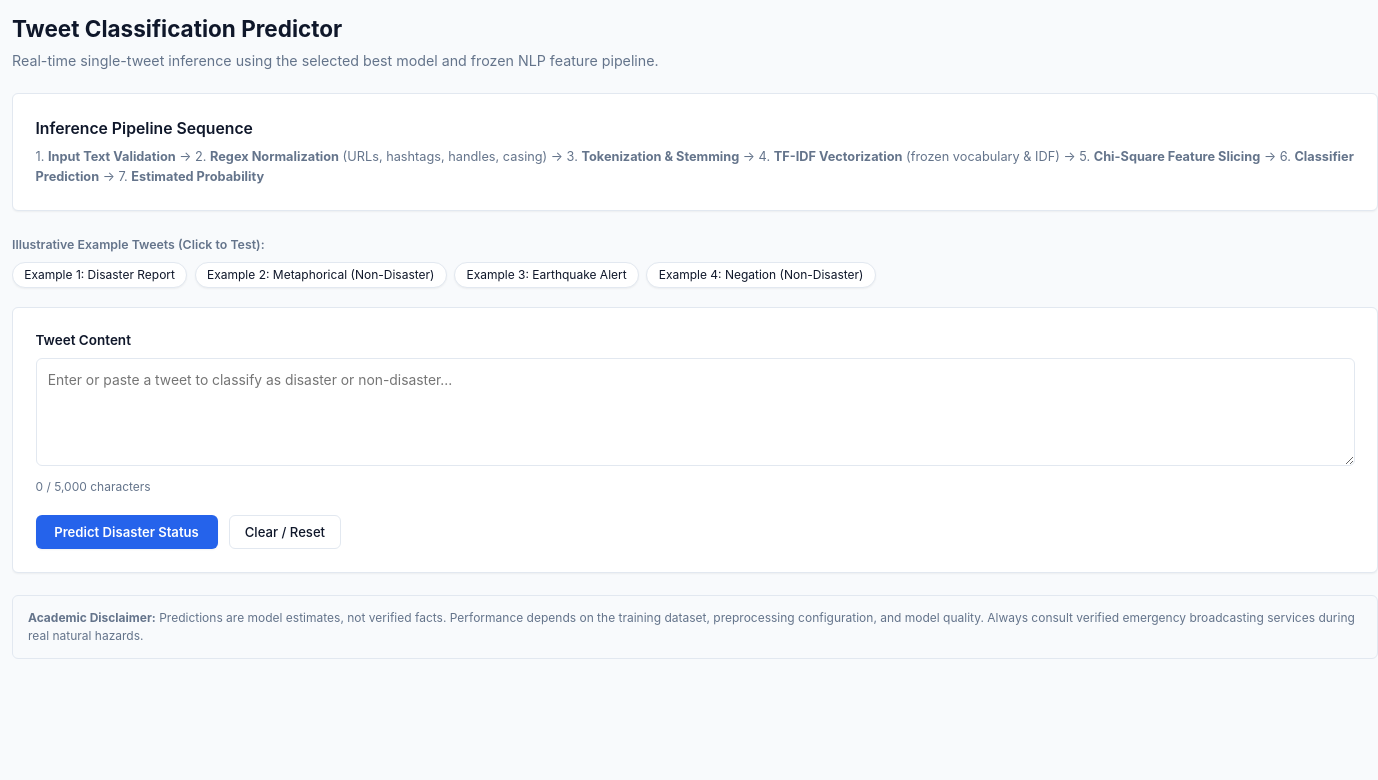
Prediction Page Component Tests (T16) › clears input and prediction output when Clear / Reset button is clicked
expect the heading "Tweet Classification Predictor" is shown: met, box [12,15,342,42]
Step 1. Replace the text in the text box with placeholder "Enter or paste a tweet to classify" with "Testing tweet text" → [695, 412], box [36,358,1354,466]
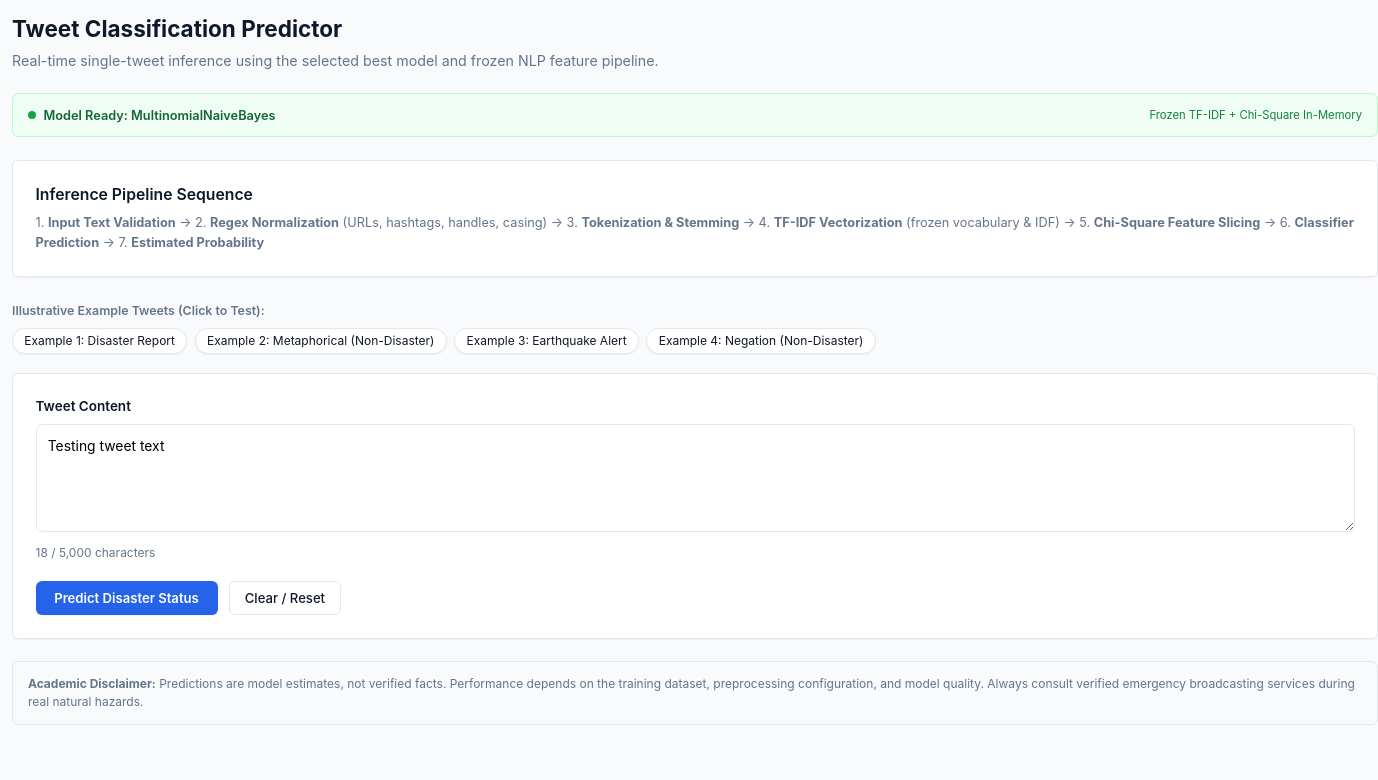
Step 2. Click the button "Clear / Reset" → [285, 598], box [229,581,341,615]
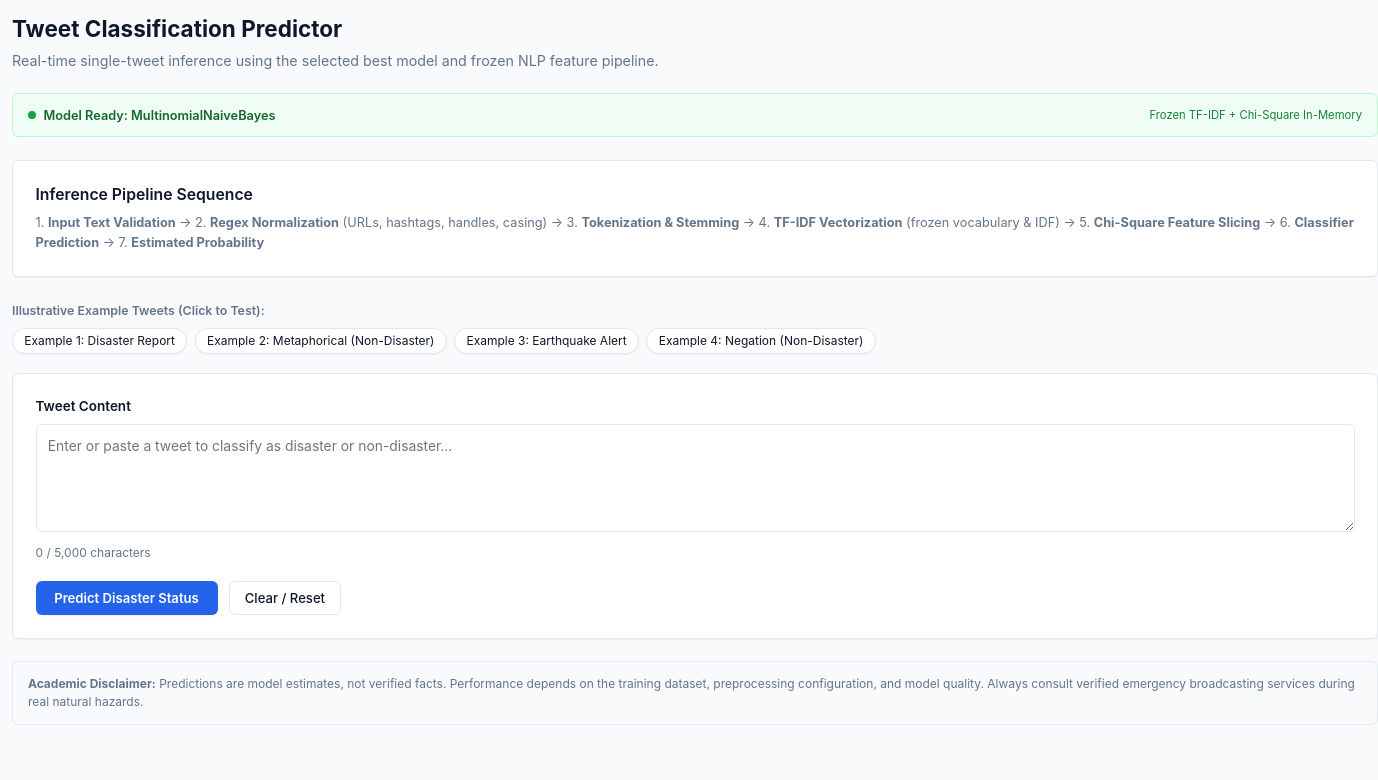
expect the text box with placeholder "Enter or paste a tweet to classify" is empty: met, box [36,424,1354,532]
expect the text "0 / 5,000 characters" is shown: met, box [36,544,151,562]
